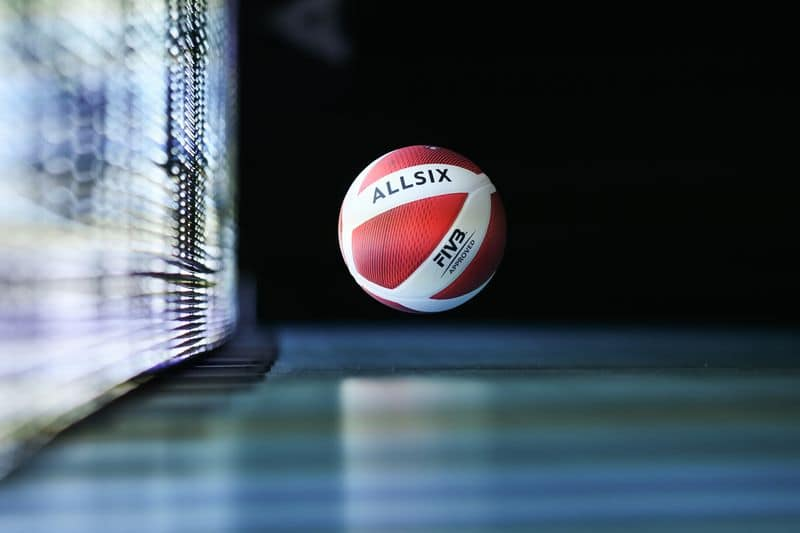ball: (338, 145, 507, 313)
